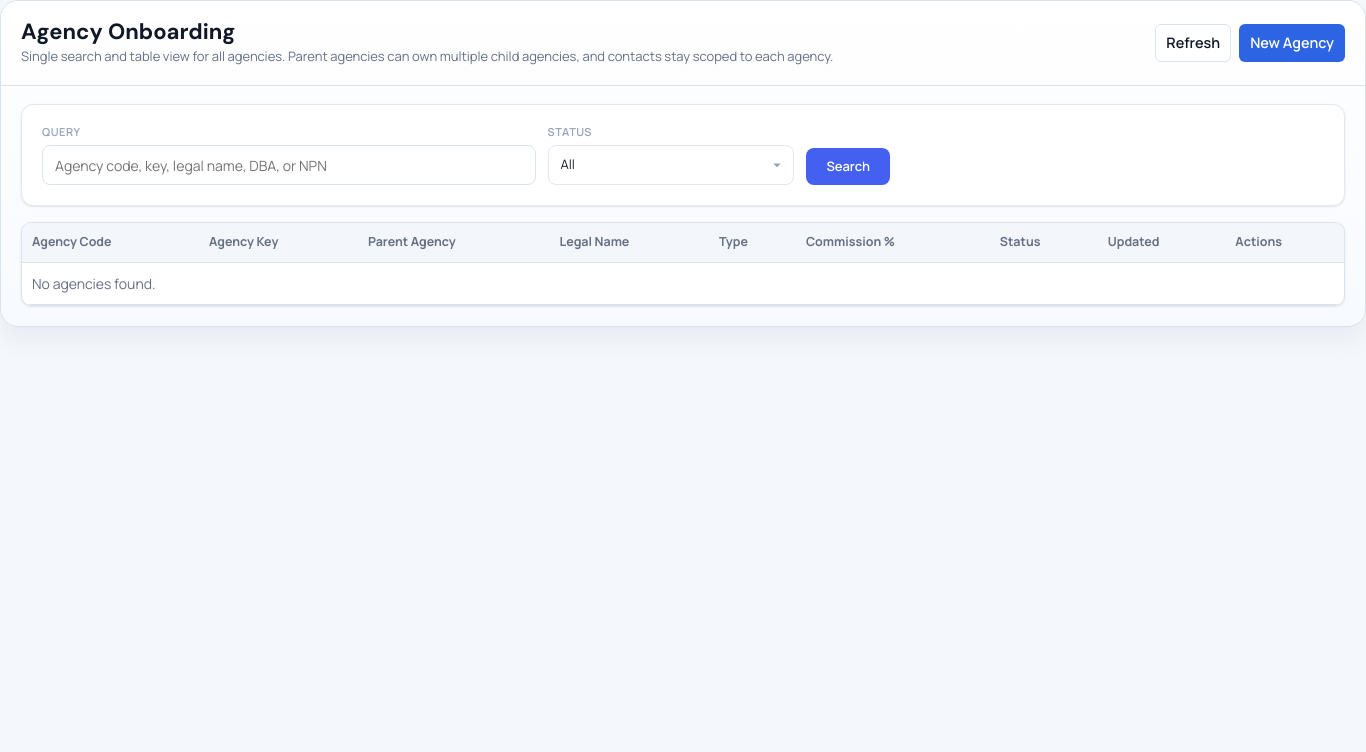
Test: AgencyOnboardingPage › shows validation errors before creating an invalid agency
Step 1. Click the button "New Agency" → (1292, 43), box [1239, 24, 1345, 62]
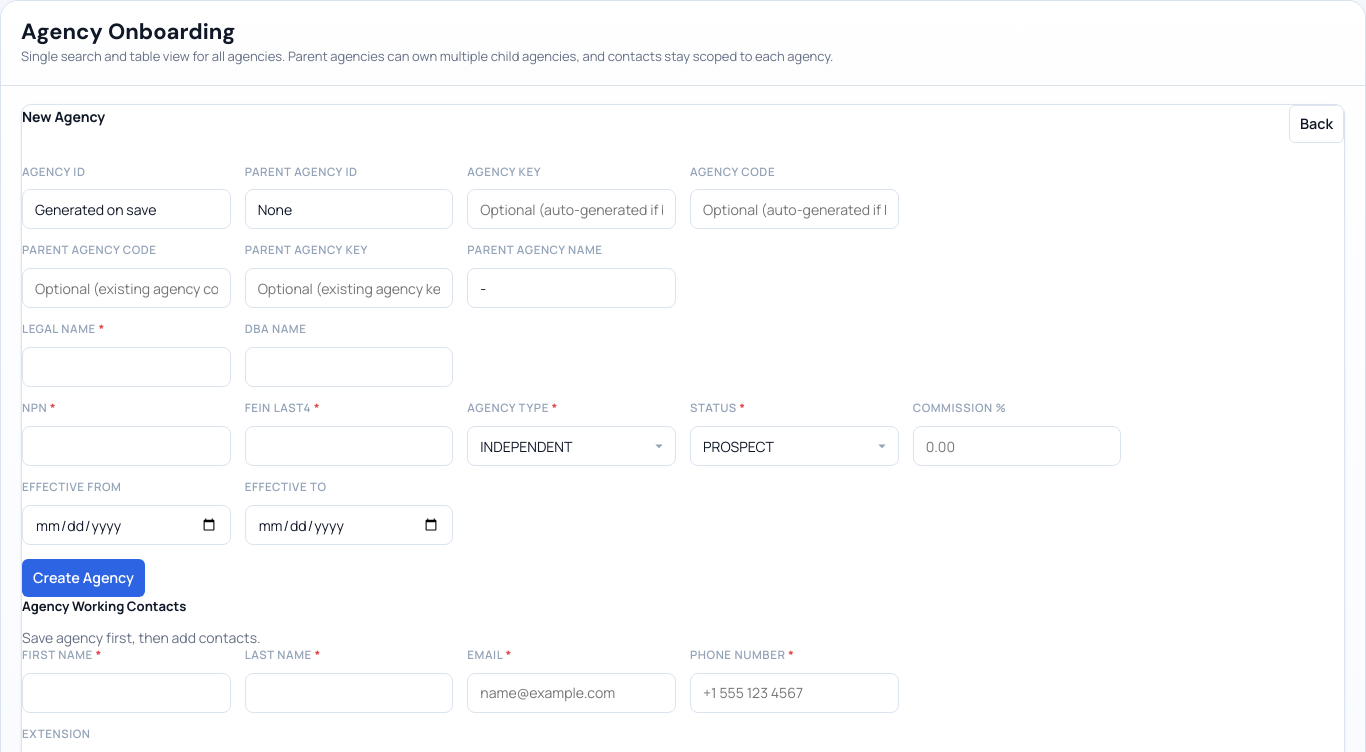
Step 2. Click the button "Create Agency" → (83, 578), box [22, 559, 145, 597]
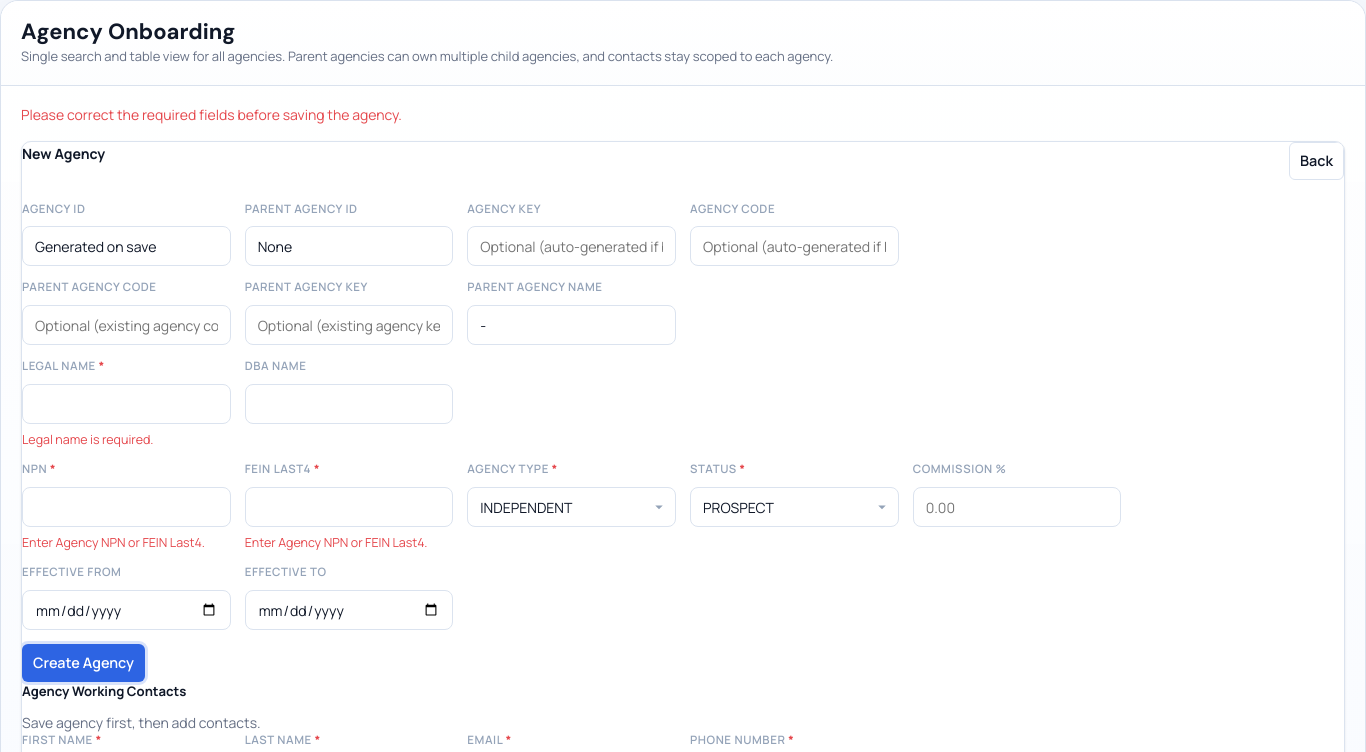
Expected: the text "Please correct the required fields before saving the agency." is shown, [21, 105, 402, 124]
